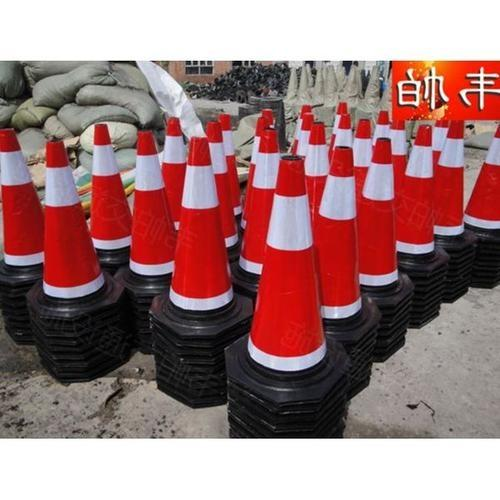cone_barrel: (245, 147, 332, 379), (162, 135, 240, 324), (35, 138, 108, 312), (314, 130, 363, 332), (125, 128, 175, 288), (357, 137, 401, 296), (83, 124, 131, 260), (237, 125, 279, 276), (398, 123, 438, 258), (434, 119, 467, 241), (463, 122, 498, 236)
